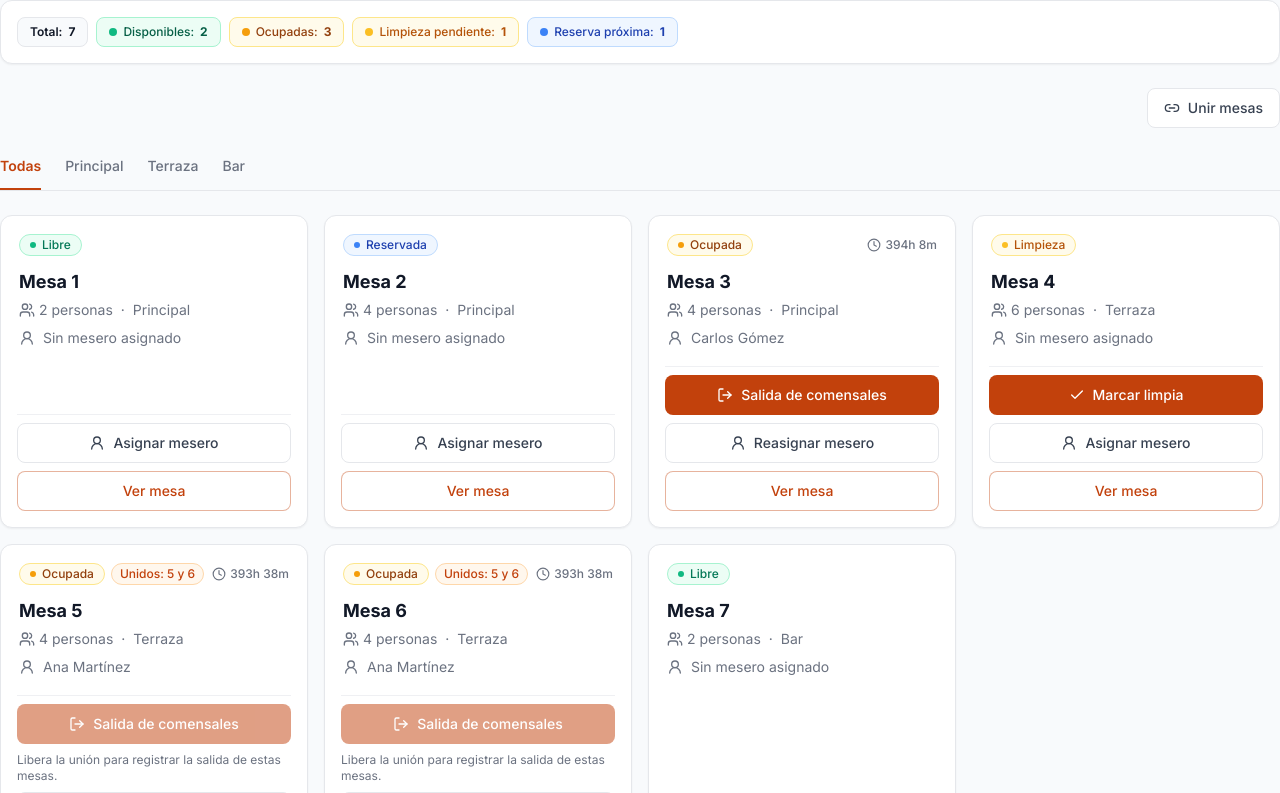
Test case: PlanoSalaView Component › FE-005, RF-011, RF-023: reasignar actualiza el nombre del mesero sin seleccionar la mesa
This screenshot has width=1280, height=793.
Expected: the text "Carlos Gómez" is shown, x1=691 y1=328 x2=784 y2=348
Click the 1st button "Reasignar mesero". click: point(802, 443)
box: x1=665 y1=423 x2=939 y2=463
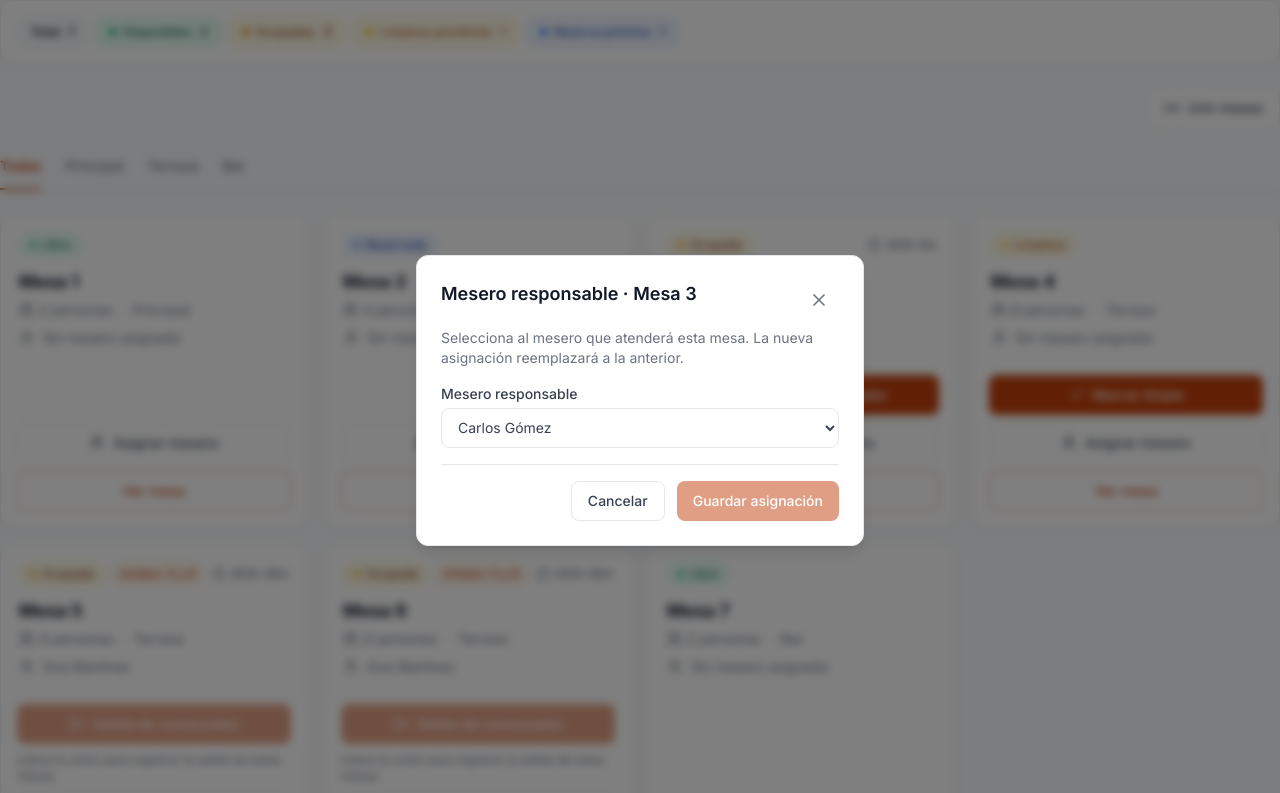
Select "Ana Martínez" in the dropdown labelled "Mesero responsable". click: point(640, 428)
box: x1=441 y1=408 x2=839 y2=448
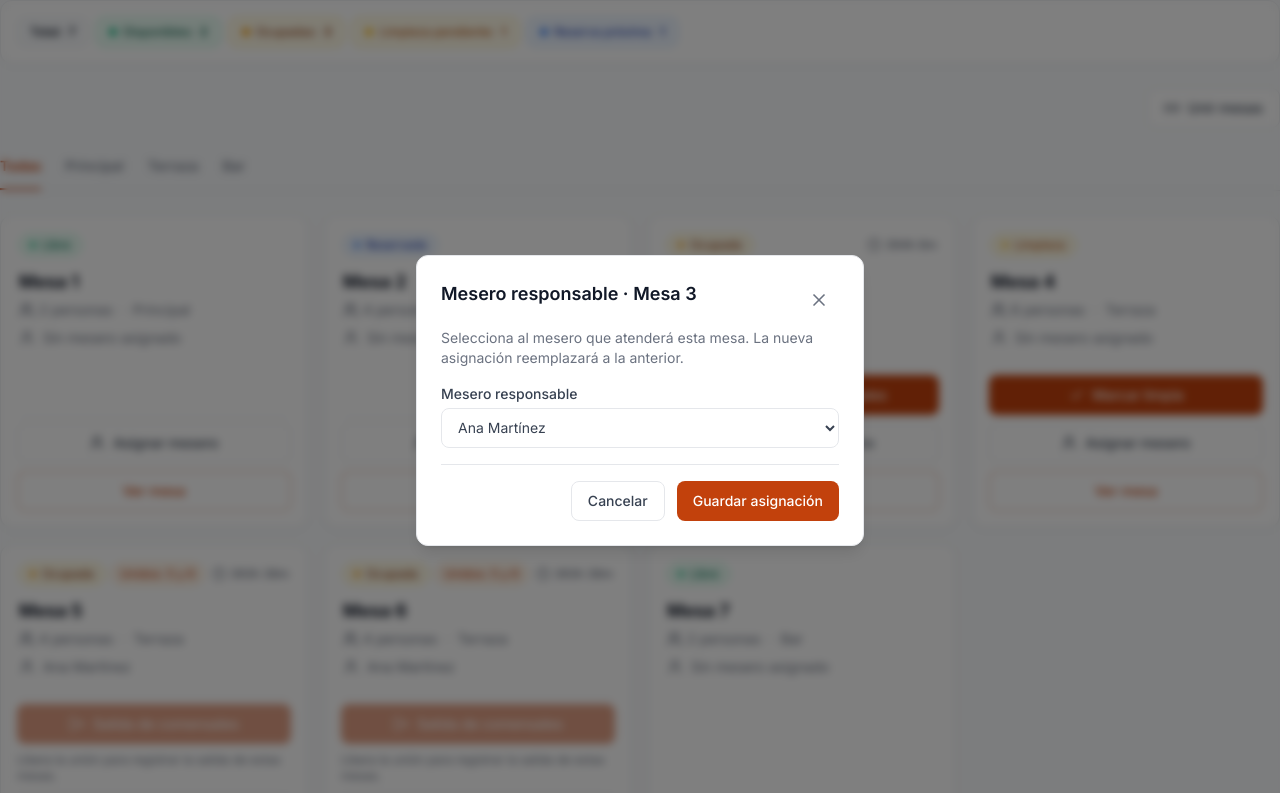
Click the button "Guardar asignación". click: point(758, 500)
box: x1=677 y1=480 x2=839 y2=520
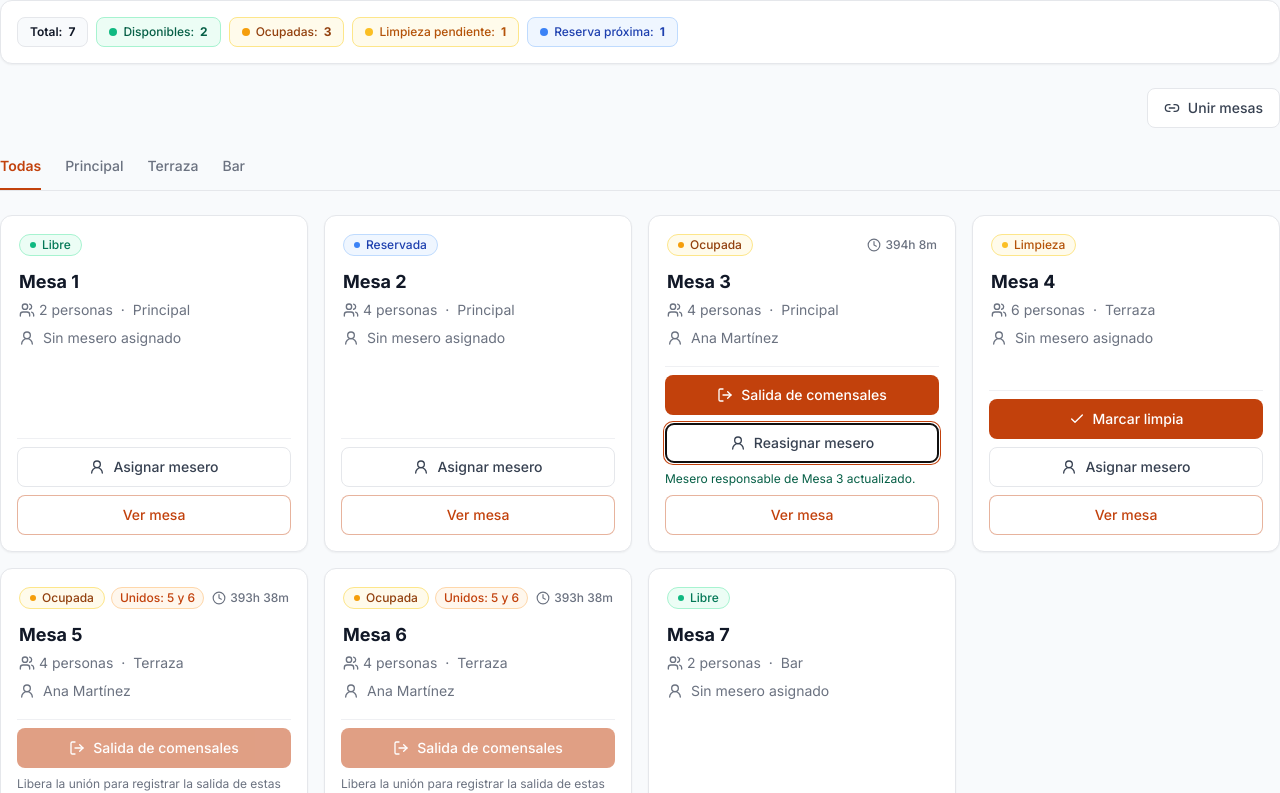
Now the 1st text "Ana Martínez" is shown, box x1=691 y1=328 x2=779 y2=348
Now the button "Carlos Gómez" is gone
